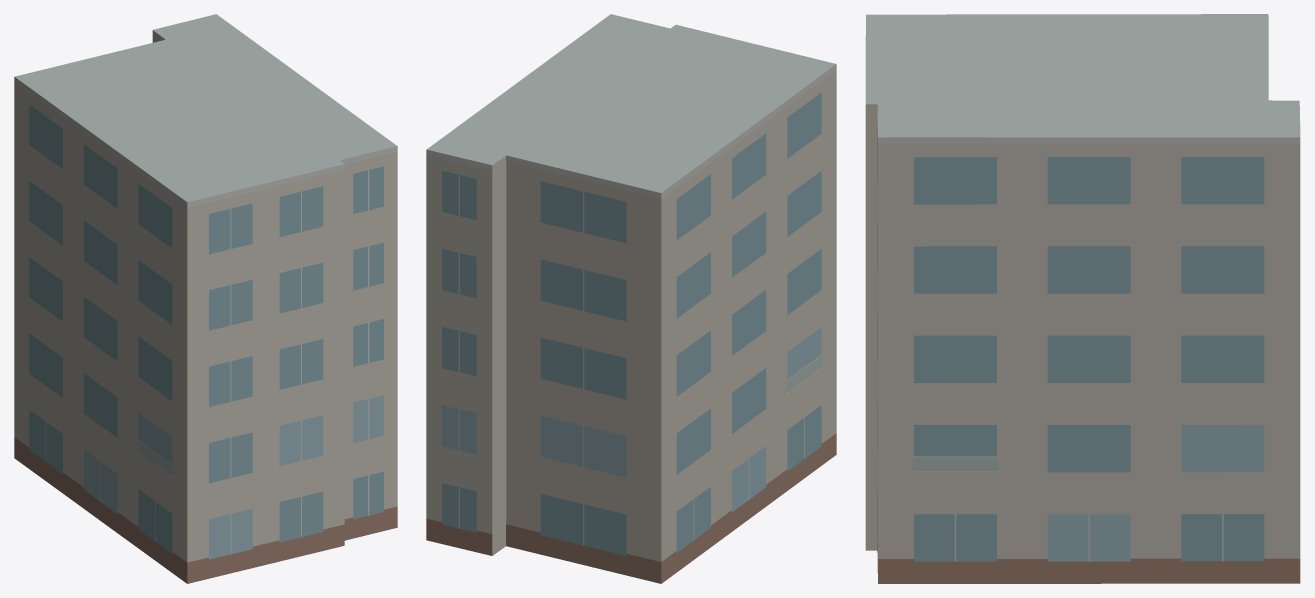
Rendered from survey-upis-32723472.glb.
3 renders of one model, left to right at view 1: azimuth 30°, elevation 25°; view 2: azimuth 150°, elevation 25°; view 3: azimuth 270°, elevation 25°, orthographic. The views are drawn at different scales.
Visible parts, largest first — view 1: survey-upis-32723472.tmp; view 2: survey-upis-32723472.tmp; view 3: survey-upis-32723472.tmp.
Boxes of the visible parts, x1,y1,x2,y2 form: survey-upis-32723472.tmp: [14, 14, 397, 583]; survey-upis-32723472.tmp: [426, 14, 836, 583]; survey-upis-32723472.tmp: [865, 14, 1300, 583].
Bounding box in the file's own units: 9.54 × 16 × 14.14.
